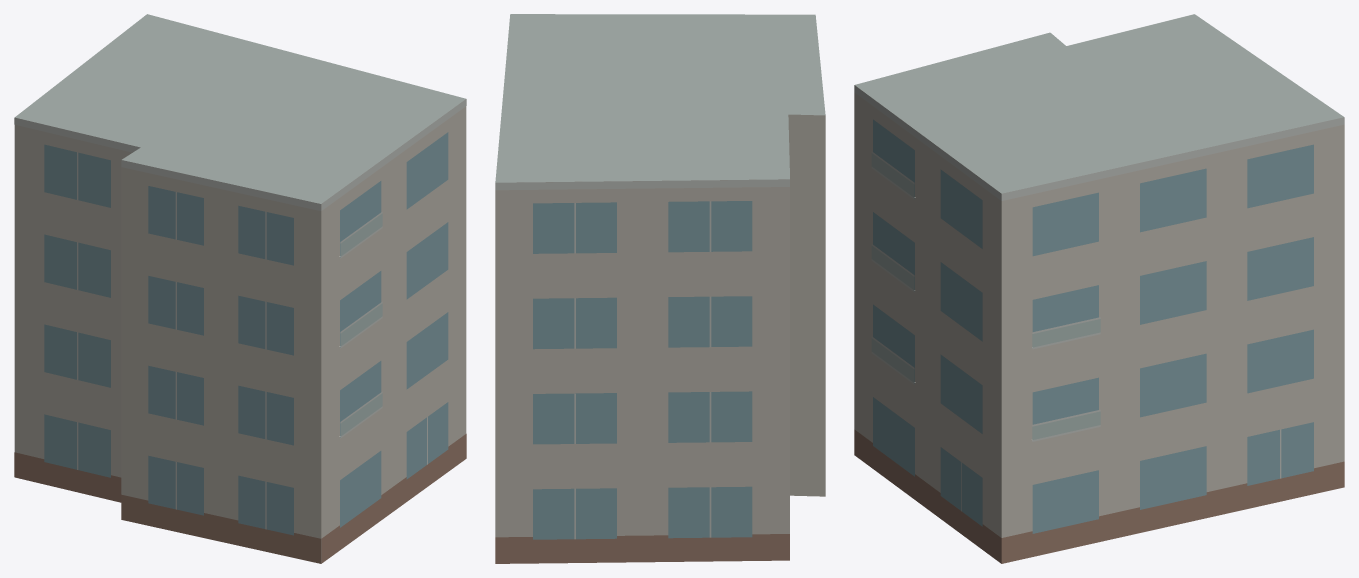
File: survey-upis-32772515.glb
3 renders of one model, left to right at view 1: azimuth 30°, elevation 25°; view 2: azimuth 150°, elevation 25°; view 3: azimuth 270°, elevation 25°, orthographic. The views are drawn at different scales.
Visible parts, largest first — view 1: survey-upis-32772515.tmp; view 2: survey-upis-32772515.tmp; view 3: survey-upis-32772515.tmp.
Boxes of the visible parts, box(x1,y1,x2,y2) form: survey-upis-32772515.tmp: box(14, 14, 466, 563); survey-upis-32772515.tmp: box(495, 14, 825, 563); survey-upis-32772515.tmp: box(854, 14, 1344, 563).
Size of the model in its own units: 12.71 by 12.2 by 14.65.
